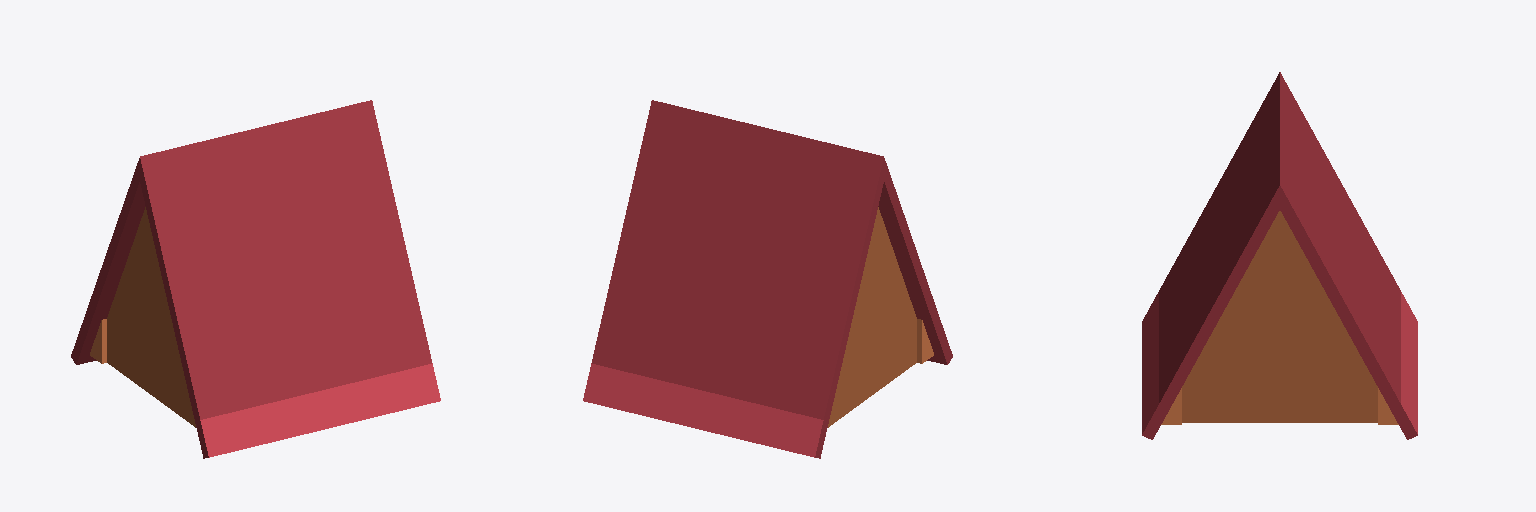
The model's file is roofHighGable.obj.
3 views of the same model, side by side, from view 1: azimuth 30°, elevation 25°; view 2: azimuth 150°, elevation 25°; view 3: azimuth 270°, elevation 25° (orthographic).
Visible parts, largest first — view 1: roofHighGable; view 2: roofHighGable; view 3: roofHighGable.
Part boxes in pixels (left/top/right/bottom): roofHighGable: left=71, top=100, right=440, bottom=458; roofHighGable: left=583, top=100, right=952, bottom=458; roofHighGable: left=1142, top=72, right=1417, bottom=439.
Bounding box in the file's own units: 1.1 × 1.16 × 1.13.